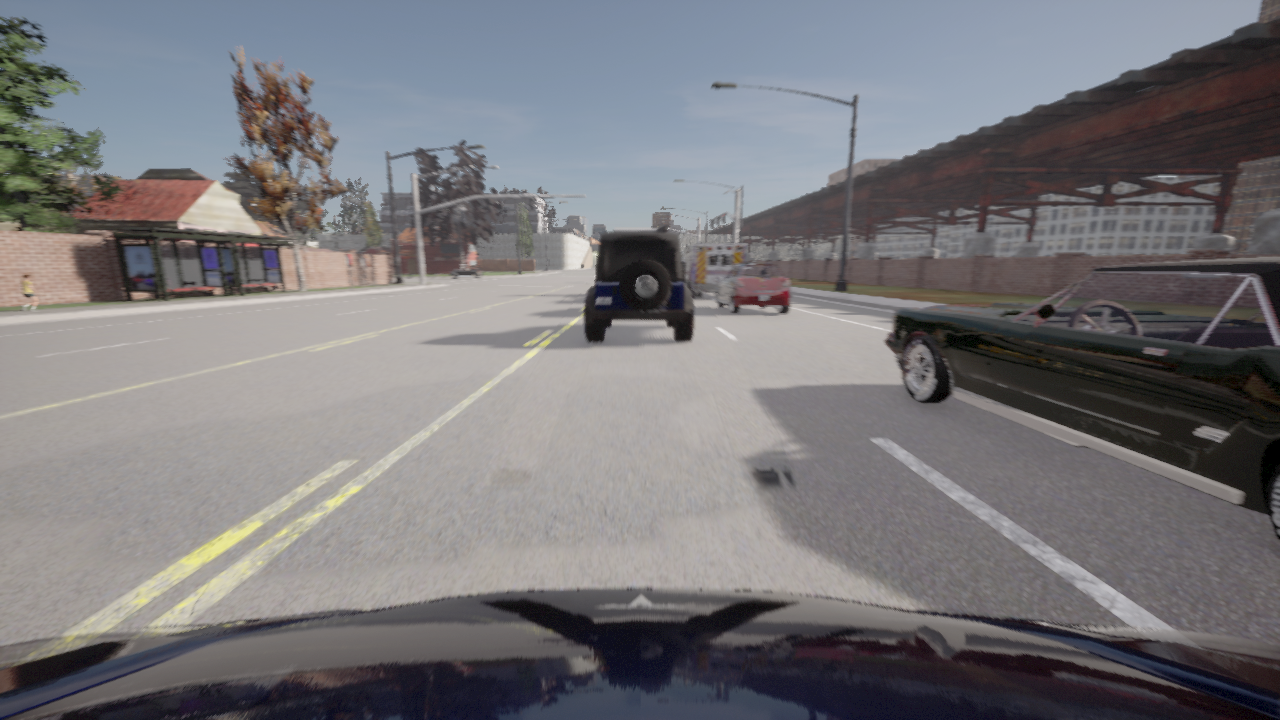cyclist: (0, 588, 1279, 719), (885, 256, 1279, 540), (585, 232, 694, 340), (717, 263, 790, 313), (683, 244, 745, 297), (450, 266, 483, 278), (613, 225, 667, 231), (682, 257, 685, 279)
pedestrian: (20, 273, 39, 311)
